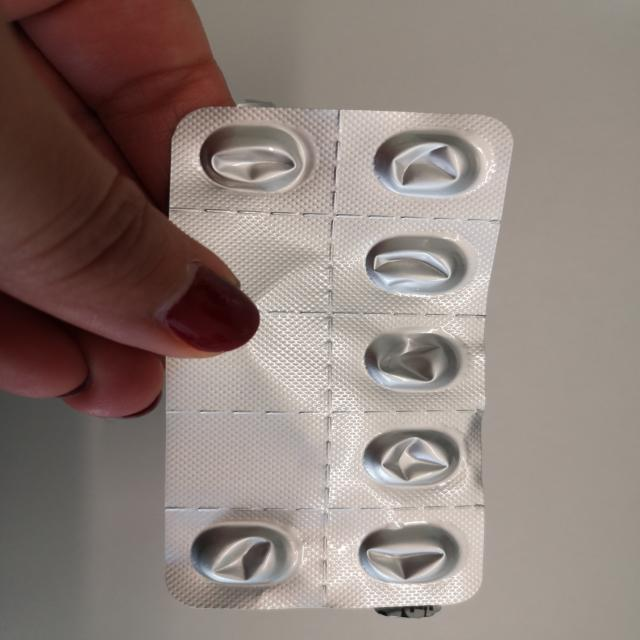Empty: (364, 127, 491, 198), (194, 121, 313, 195), (187, 522, 306, 590), (359, 230, 474, 299), (349, 520, 464, 588), (356, 327, 469, 394), (353, 426, 466, 491)
